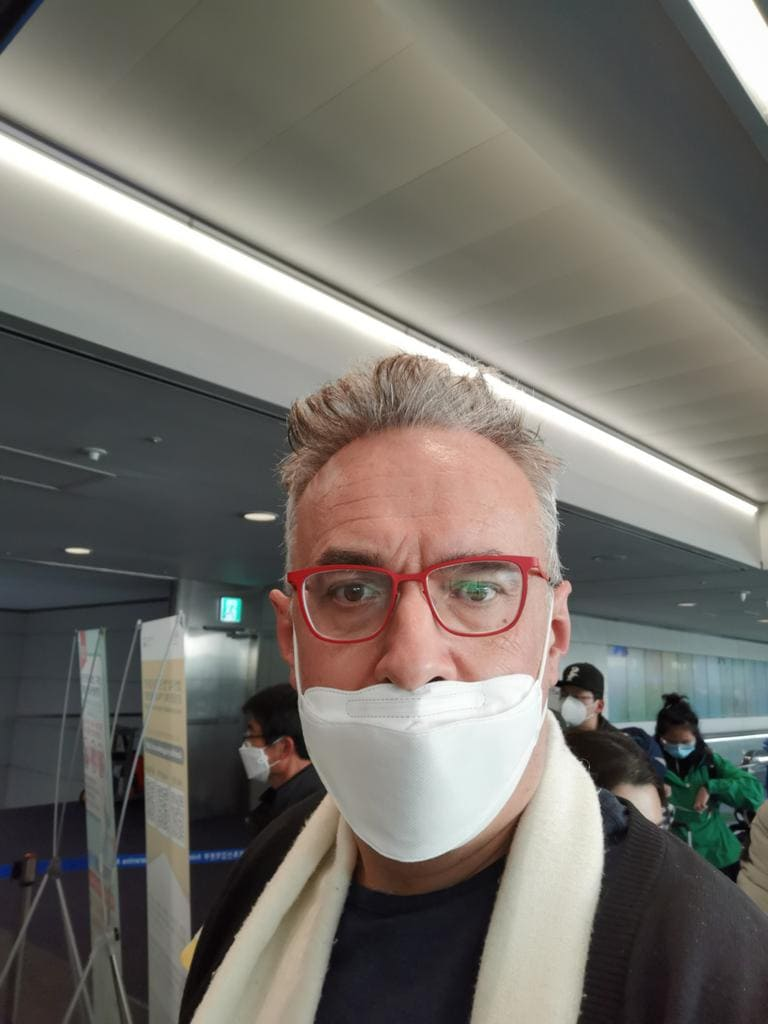with_incorrect_mask: (300, 460, 560, 857)
